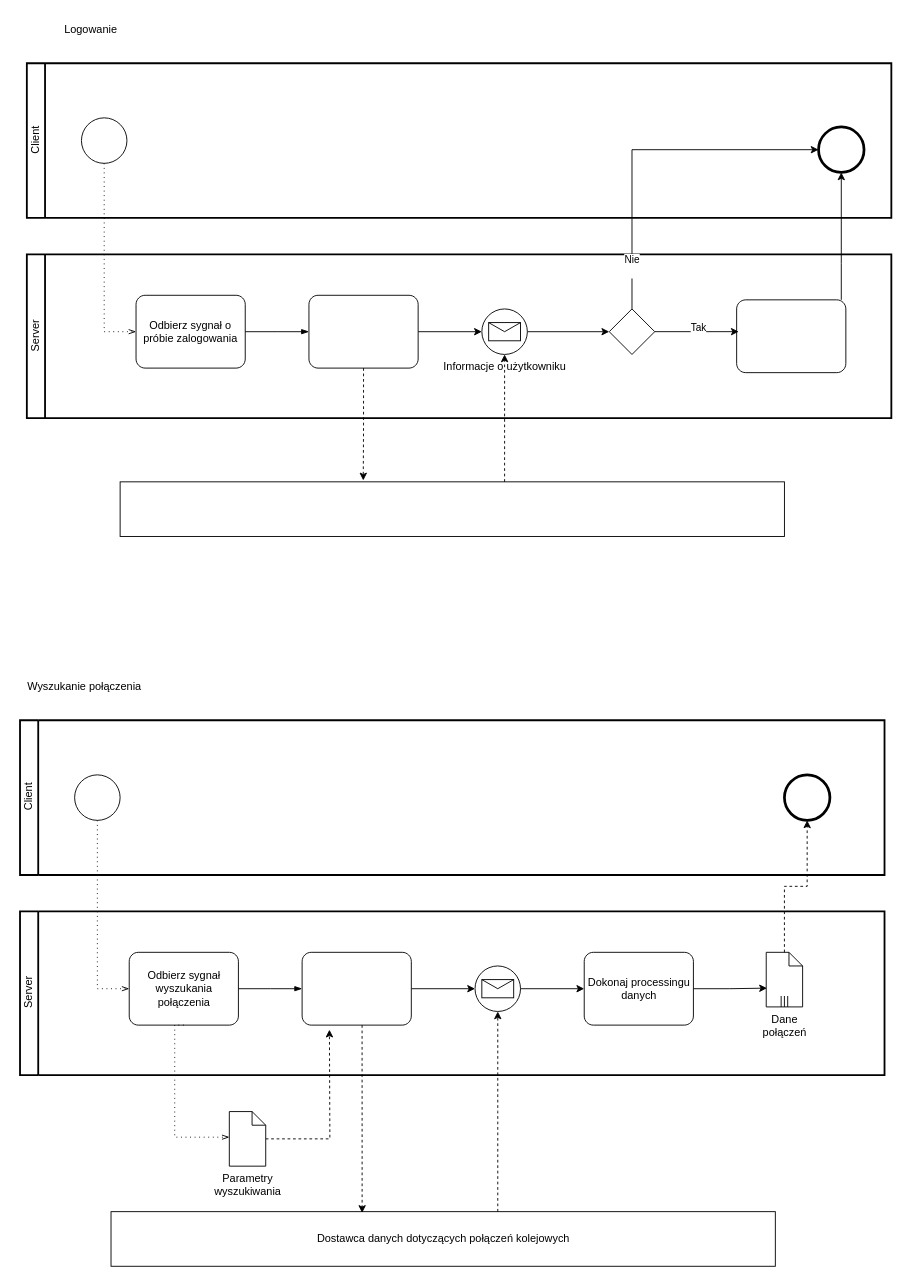
This 908x1282 diagram has some shape labels left out. The shapes that lost their labels are listed below. From the top down, each one's centre as x and y in pixels, then its label:
At (x=363, y=331): "Zaloguj użytkownika".
At (x=631, y=331): "Nowy użytkownik?".
At (x=791, y=336): "Dodaj użytkownika".
At (x=451, y=508): "Zewnętrzny autoryzator".
At (x=356, y=988): "Odczytaj dane z zewnętrznego serwisu".
At (x=497, y=988): "Informacje o połączeniach".
